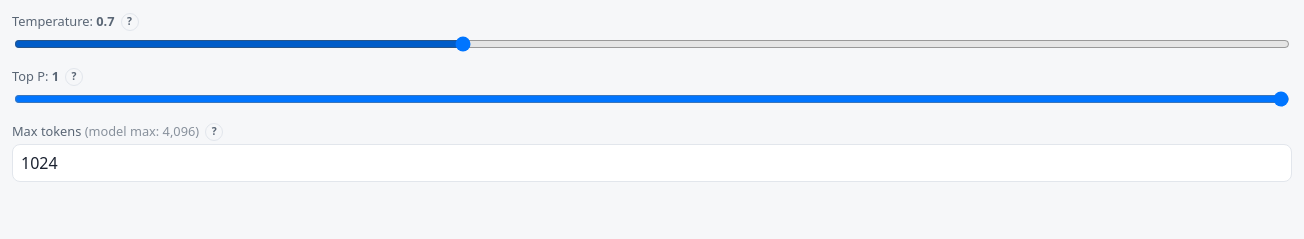
Test: ParamControls › explains Temperature's tradeoff and default in plain language when opened
Step 1. Click the button named "Help: Temperature" → (130, 22), box [120,13,138,31]
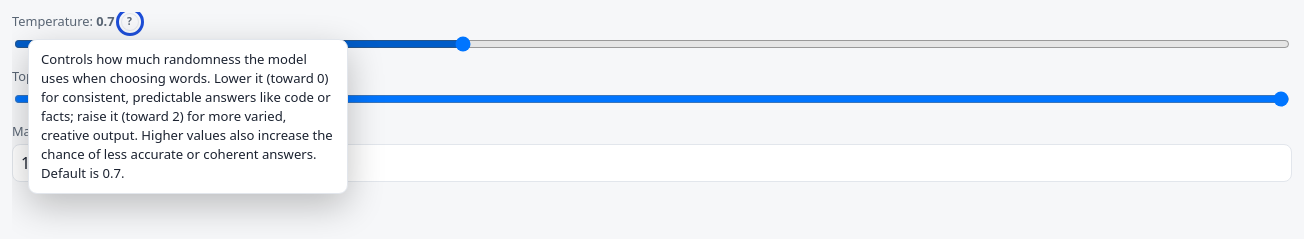
Expected: the tooltip shows "randomness", [41,50,333,182]
Expected: the tooltip shows "Default is 0.7", [41,50,333,182]
